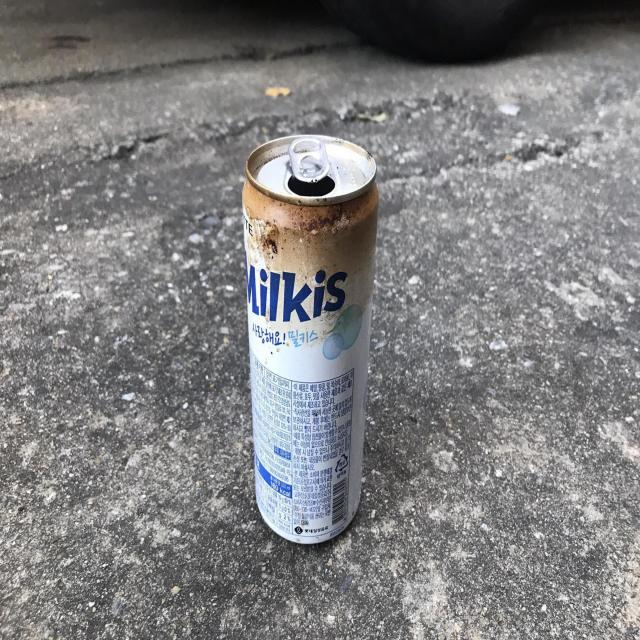can: (243, 134, 379, 544)
